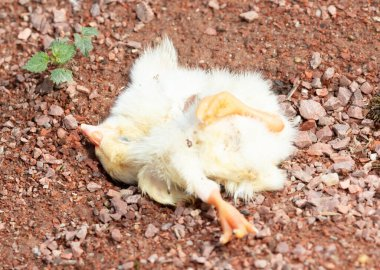Unhealthy: (72, 40, 308, 249)
